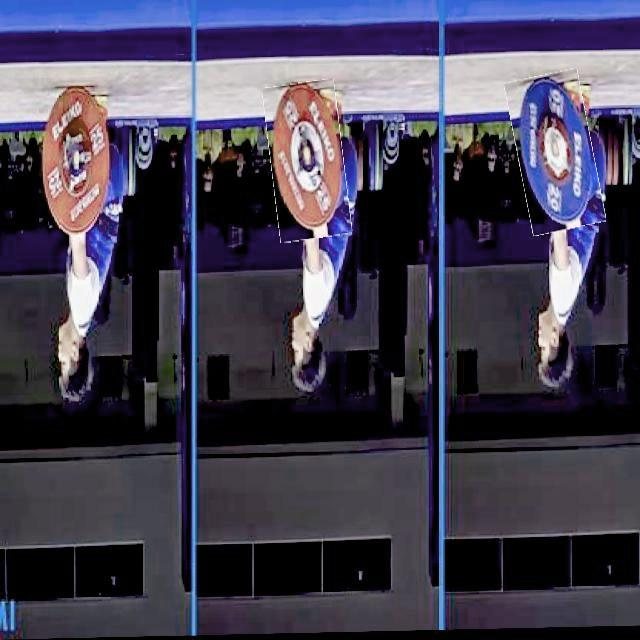barbell: (512, 74, 600, 237), (267, 81, 349, 242)
